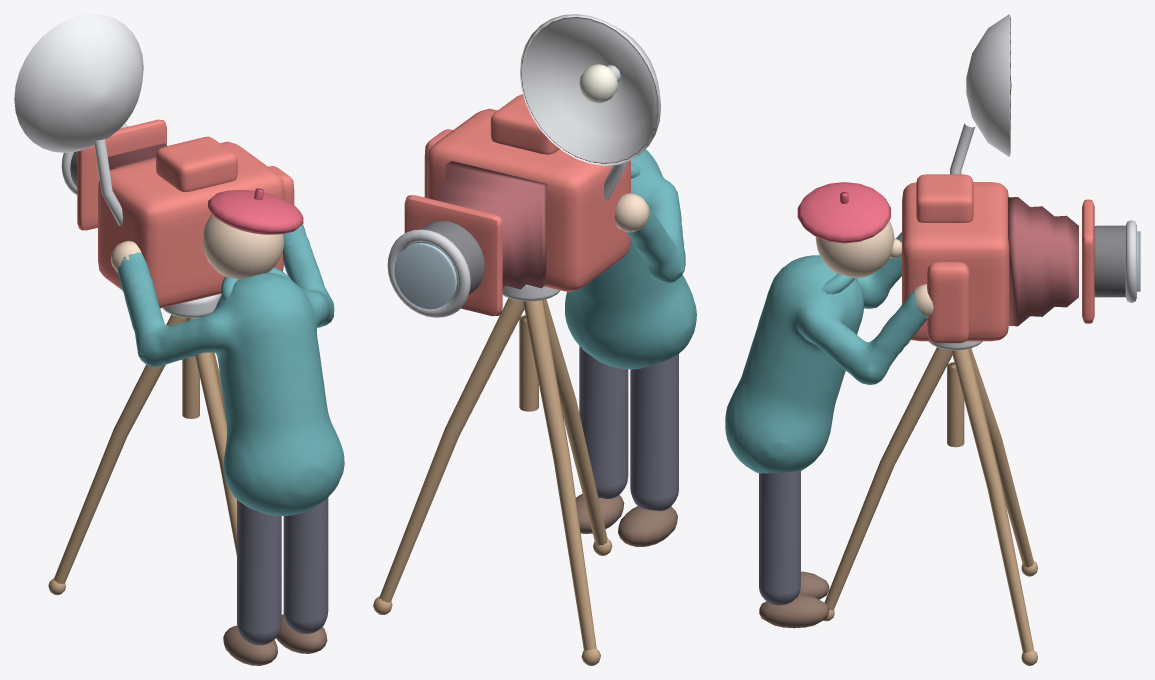
File: SlaparazziCamera.glb
3 views of the same model, side by side, from view 1: azimuth 30°, elevation 25°; view 2: azimuth 150°, elevation 25°; view 3: azimuth 270°, elevation 25° (orthographic). The views are drawn at different scales.
Parts seen in each view (by area): view 1: Coat, Body, Dish, Pants, Tripod, Skin, Beret, Shoes, Chrome, Bellows; view 2: Body, Tripod, Coat, Dish, Pants, Bellows, Chrome, Glass, Shoes, Lens, Bulb, Skin; view 3: Coat, Body, Tripod, Bellows, Pants, Dish, Beret, Skin, Lens, Shoes, Chrome.
Boxes of the visible parts, x1,y1,x2,y2 form: Coat: (117,224,344,515); Body: (77,119,294,308); Dish: (14,14,143,152); Pants: (237,497,328,645); Tripod: (48,314,236,595); Skin: (110,214,284,279); Beret: (208,188,303,234); Shoes: (223,614,327,665); Chrome: (61,123,221,317); Bellows: (108,143,166,169); Body: (404,94,630,316); Tripod: (373,298,612,665); Coat: (565,149,696,369); Dish: (519,14,661,165); Pants: (579,346,678,510); Bellows: (437,161,546,289); Chrome: (387,65,627,317); Glass: (394,242,458,309); Shoes: (576,494,677,547); Lens: (413,220,484,294); Bulb: (579,64,617,103); Skin: (614,193,649,232); Coat: (725,232,927,473); Body: (902,174,1094,343); Tripod: (823,347,1037,665); Bellows: (1008,197,1078,326); Pants: (759,470,800,605); Dish: (966,14,1010,156); Beret: (797,182,890,243); Skin: (815,220,933,317); Lens: (1094,225,1125,297); Shoes: (759,571,829,628); Chrome: (928,123,1136,350).
Size of the model in its own units: 3.89 by 8.62 by 5.79.
